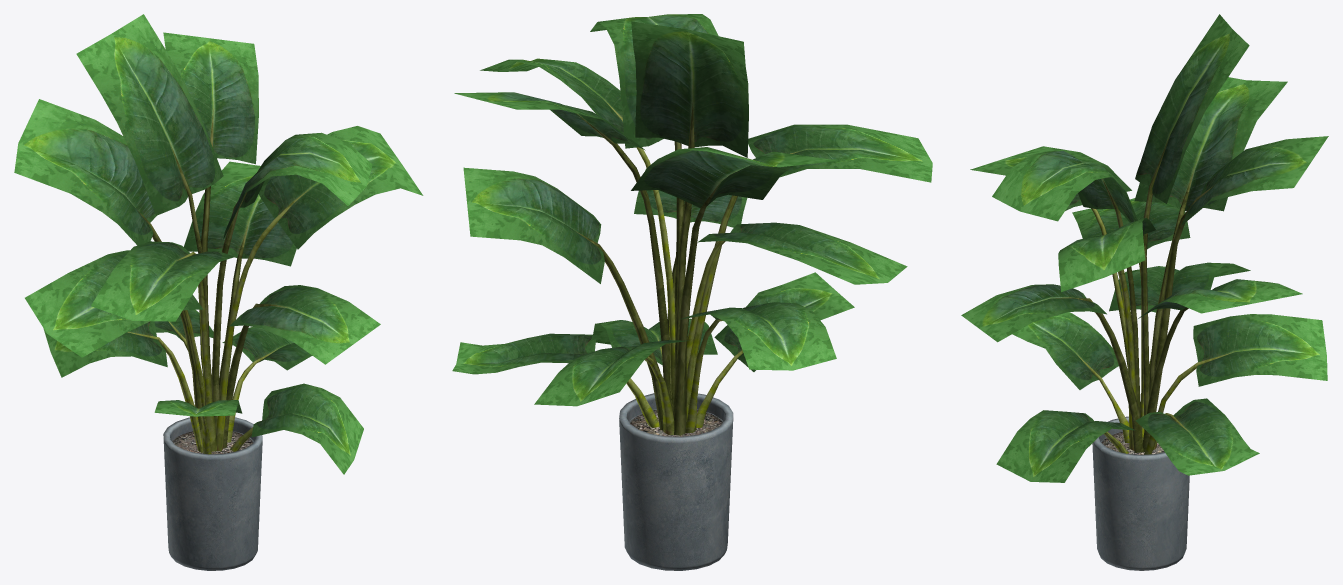
Rendered from Furniture_foliageplant_04_LOD0.fbx.
3 renders of one model, left to right at view 1: azimuth 30°, elevation 25°; view 2: azimuth 150°, elevation 25°; view 3: azimuth 270°, elevation 25°, orthographic. The views are drawn at different scales.
Visible parts, largest first — view 1: F_foliageplant_04_m2, F_foliageplant_04_m1; view 2: F_foliageplant_04_m2, F_foliageplant_04_m1; view 3: F_foliageplant_04_m2, F_foliageplant_04_m1.
Boxes of the visible parts, x1,y1,x2,y2 form: F_foliageplant_04_m2: (14, 14, 423, 474); F_foliageplant_04_m1: (163, 417, 262, 570); F_foliageplant_04_m2: (452, 14, 932, 435); F_foliageplant_04_m1: (619, 393, 733, 570); F_foliageplant_04_m2: (961, 14, 1328, 482); F_foliageplant_04_m1: (1092, 416, 1189, 570).
Size of the model in its own units: 0.8388 by 1.17 by 0.7776.
Materials: 2 (2 with a texture image).
